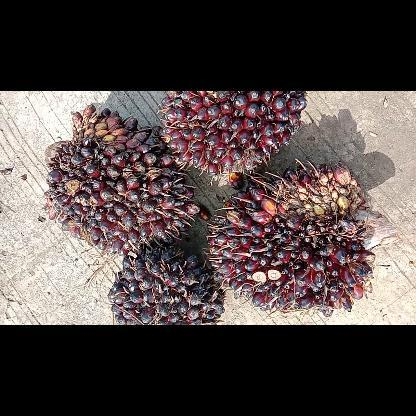TBS mentah: (203, 157, 377, 318), (42, 103, 204, 257), (158, 90, 312, 192), (108, 246, 224, 324)
